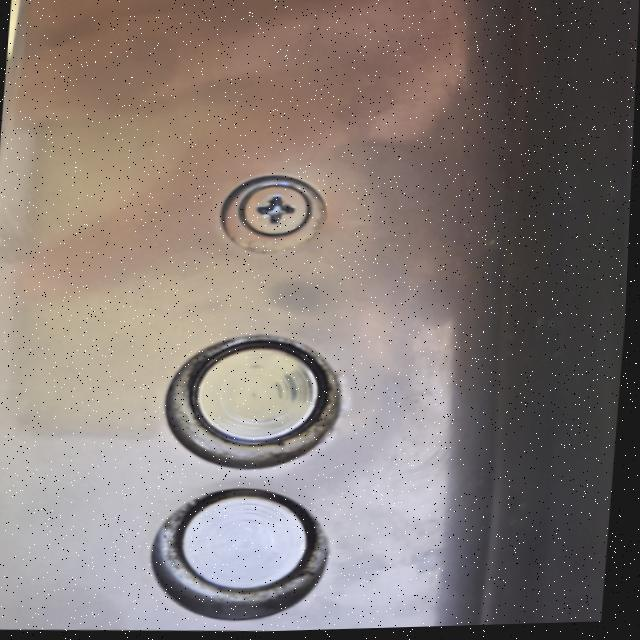Phillips: (237, 177, 321, 239)
